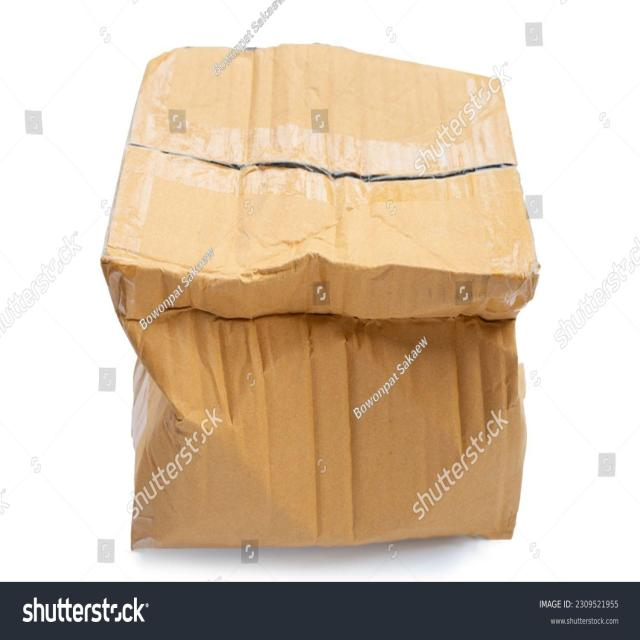Garbage: (97, 36, 546, 561)
